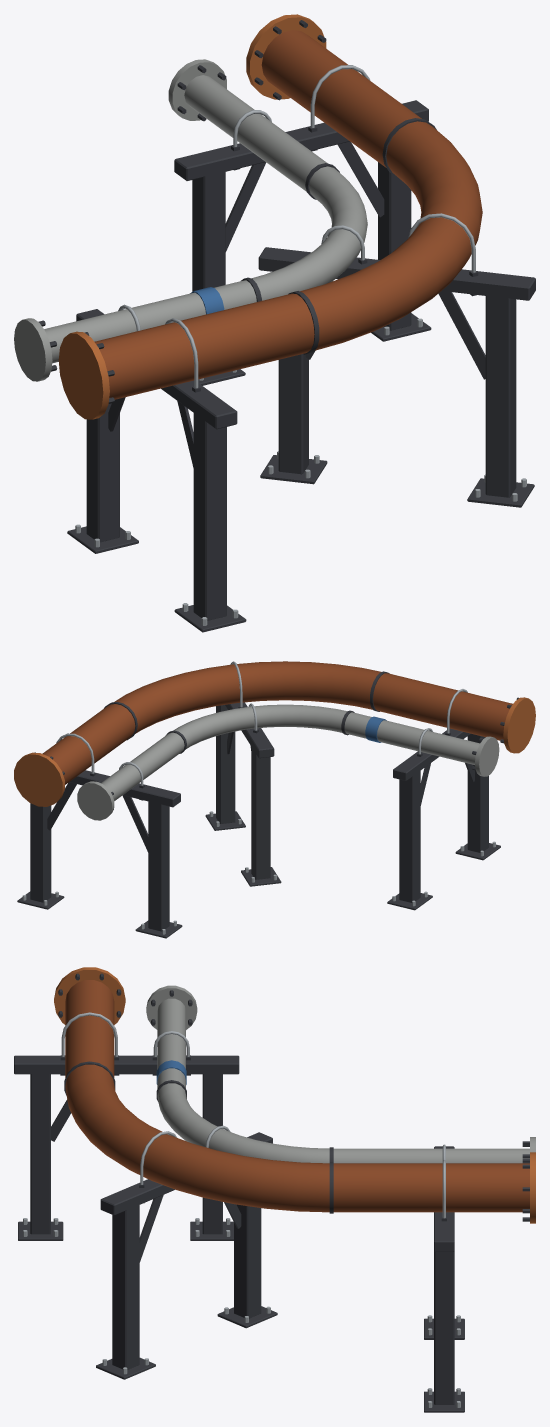
File: deco_pipe_elbow.fbx
3 renders of one model, top to bottom at view 1: azimuth 30°, elevation 25°; view 2: azimuth 150°, elevation 25°; view 3: azimuth 270°, elevation 25°, orthographic. The views are drawn at different scales.
Parts seen in each view (by area): view 1: Pipe_Elbow_PipeLarge, Pipe_Elbow_Stands, Pipe_Elbow_PipeSmall, Pipe_Elbow_Fittings; view 2: Pipe_Elbow_PipeLarge, Pipe_Elbow_Stands, Pipe_Elbow_PipeSmall, Pipe_Elbow_Fittings; view 3: Pipe_Elbow_PipeLarge, Pipe_Elbow_Stands, Pipe_Elbow_PipeSmall, Pipe_Elbow_Fittings.
Boxes of the visible parts, bbox=[...] form: Pipe_Elbow_PipeLarge: bbox=[58, 14, 482, 419]; Pipe_Elbow_Stands: bbox=[67, 100, 535, 632]; Pipe_Elbow_PipeSmall: bbox=[14, 59, 367, 381]; Pipe_Elbow_Fittings: bbox=[38, 20, 526, 625]; Pipe_Elbow_PipeLarge: bbox=[14, 661, 535, 806]; Pipe_Elbow_Stands: bbox=[17, 702, 500, 938]; Pipe_Elbow_PipeSmall: bbox=[77, 704, 499, 820]; Pipe_Elbow_Fittings: bbox=[22, 661, 518, 934]; Pipe_Elbow_PipeLarge: bbox=[54, 967, 535, 1223]; Pipe_Elbow_Stands: bbox=[14, 1055, 464, 1412]; Pipe_Elbow_PipeSmall: bbox=[146, 985, 535, 1163]; Pipe_Elbow_Fittings: bbox=[23, 973, 529, 1407].
Size of the model in its own units: 255 by 122 by 255.
